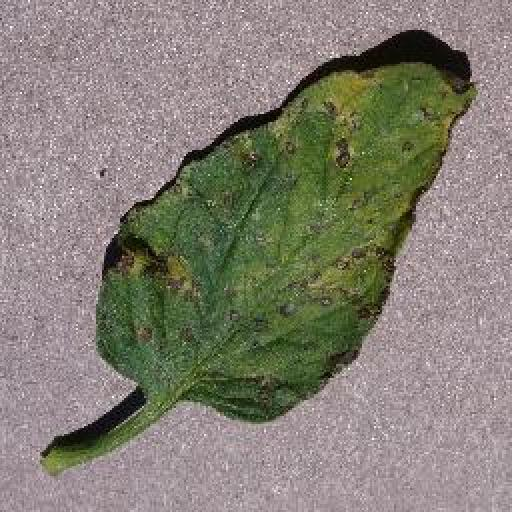Septoria: (101, 58, 476, 426)
